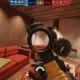Friend_label: (65, 36, 70, 40)
